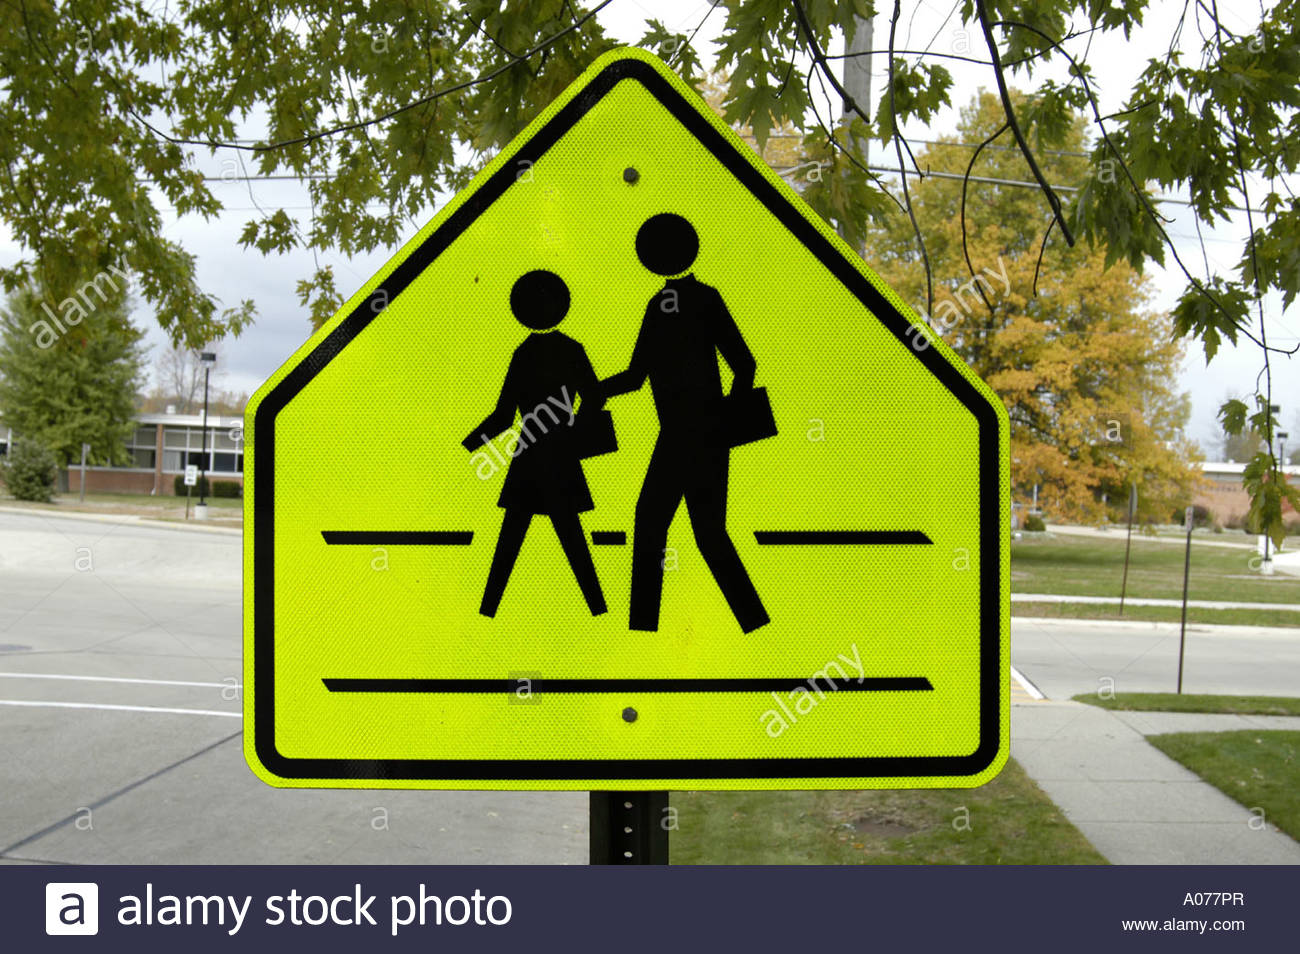slow: (233, 45, 1016, 794)
